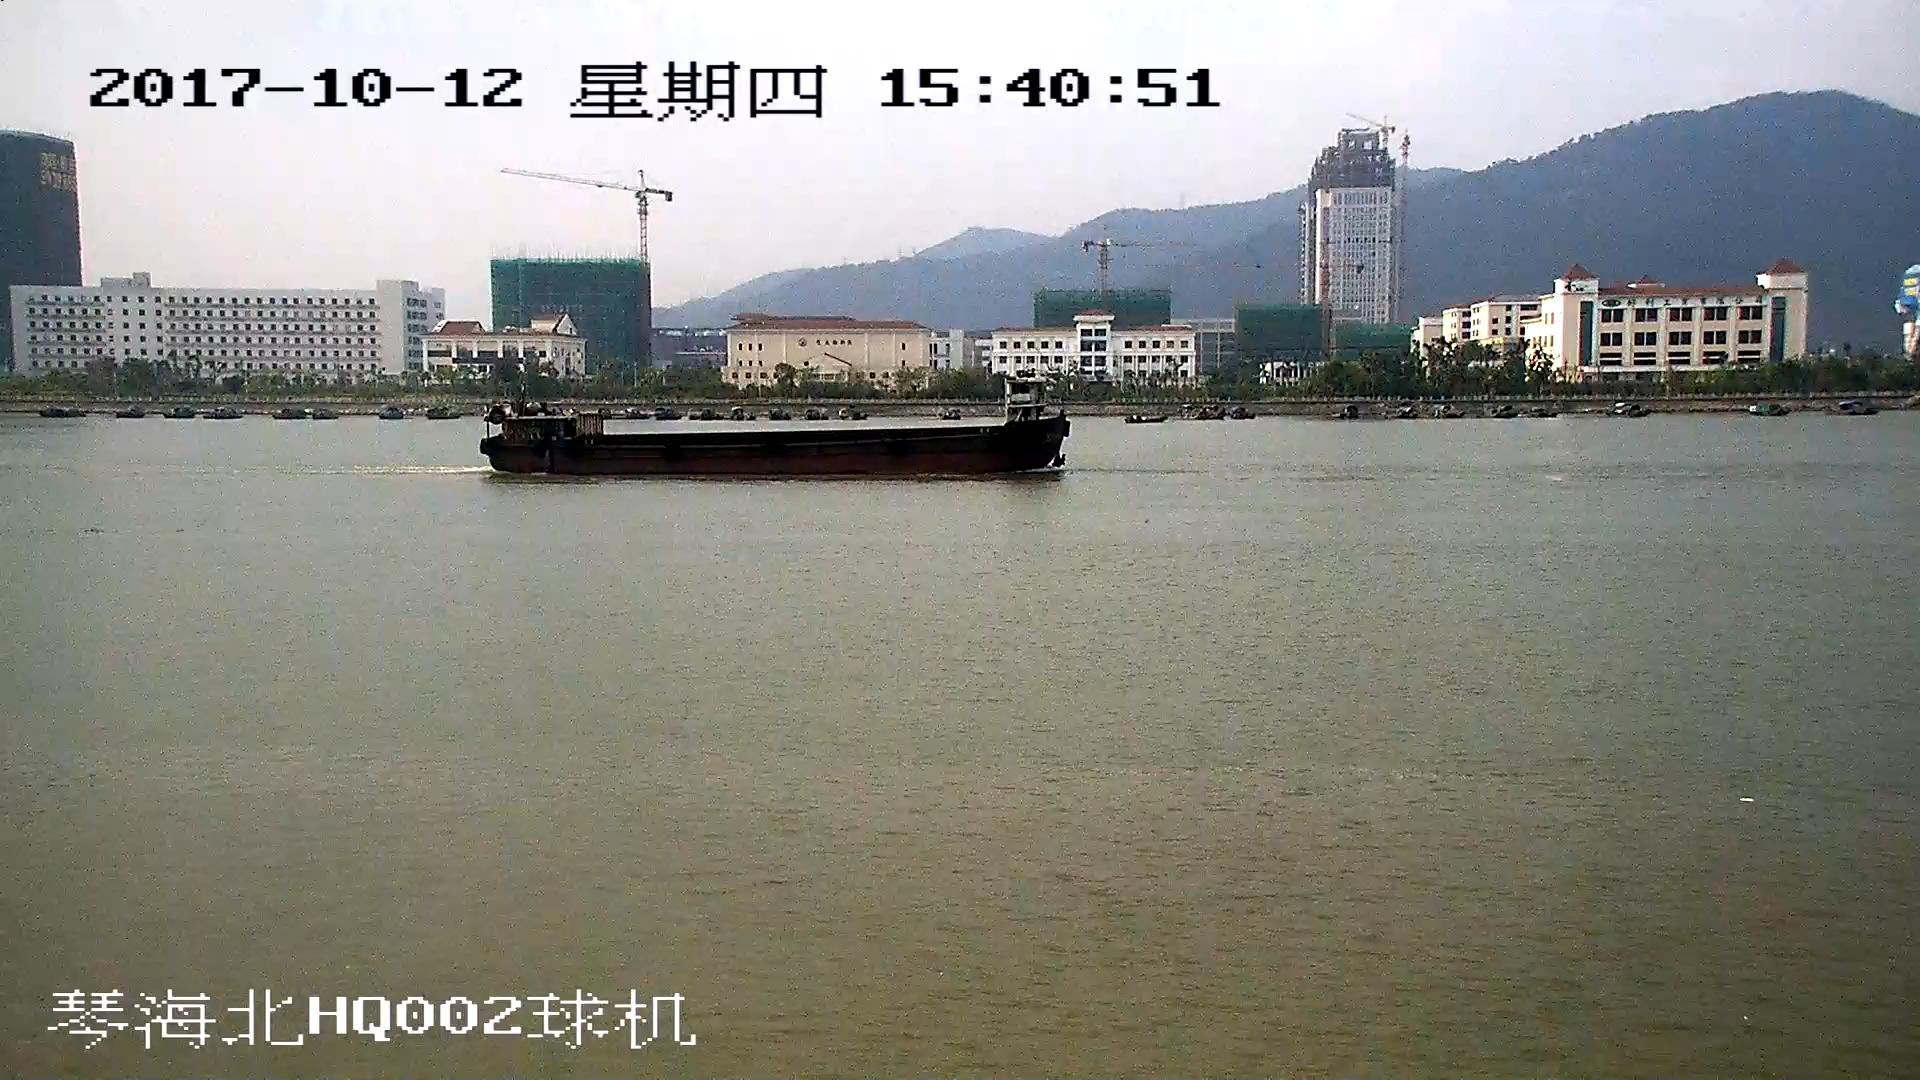general cargo ship: (485, 381, 1068, 475)
